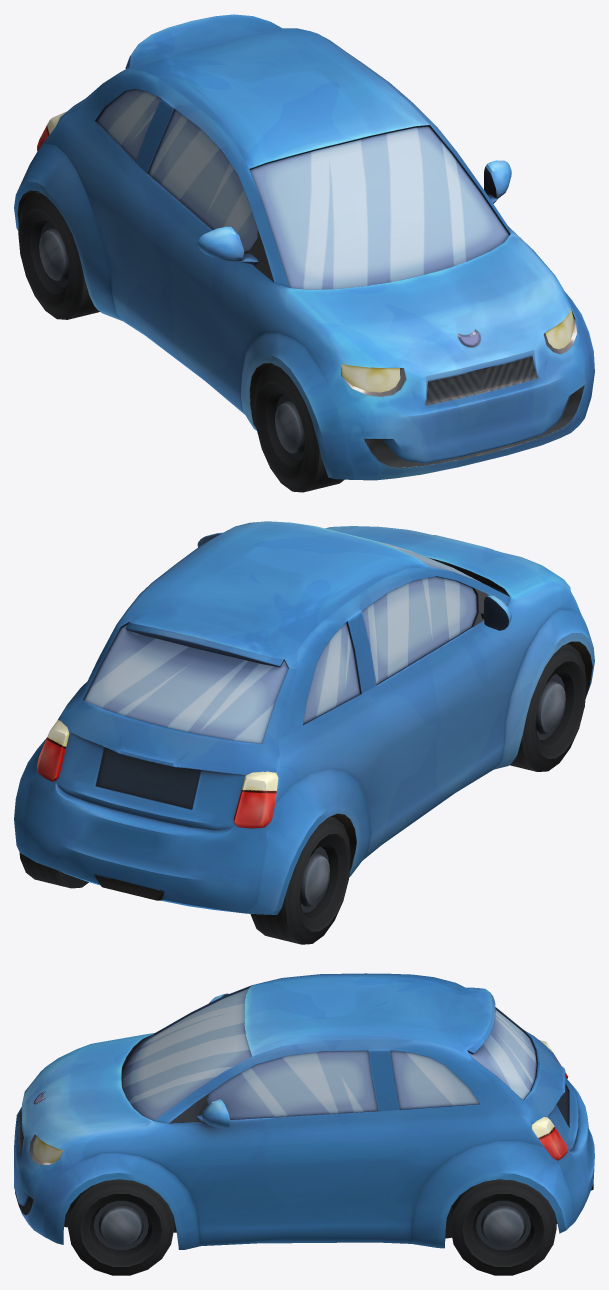
File: Car-5.fbx
3 views of the same model, one above another, from view 1: azimuth 30°, elevation 25°; view 2: azimuth 150°, elevation 25°; view 3: azimuth 270°, elevation 25° (orthographic). The views are drawn at different scales.
Visible parts, largest first — view 1: Car-5, Car-5-W-F-R, Car-5-W-B; view 2: Car-5, Car-5-W-B, Car-5-W-F-R; view 3: Car-5, Car-5-W-B, Car-5-W-F-L.
Boxes of the visible parts, box(x1,y1,x2,y2) form: Car-5: box(14, 14, 594, 480); Car-5-W-F-R: box(254, 364, 344, 492); Car-5-W-B: box(18, 192, 99, 319); Car-5: box(14, 521, 594, 914); Car-5-W-B: box(19, 816, 350, 944); Car-5-W-F-R: box(509, 644, 586, 771); Car-5: box(14, 973, 594, 1249); Car-5-W-B: box(450, 1179, 556, 1275); Car-5-W-F-L: box(68, 1179, 174, 1275).
Bounding box in the file's own units: 1.69 × 1.41 × 3.36.
